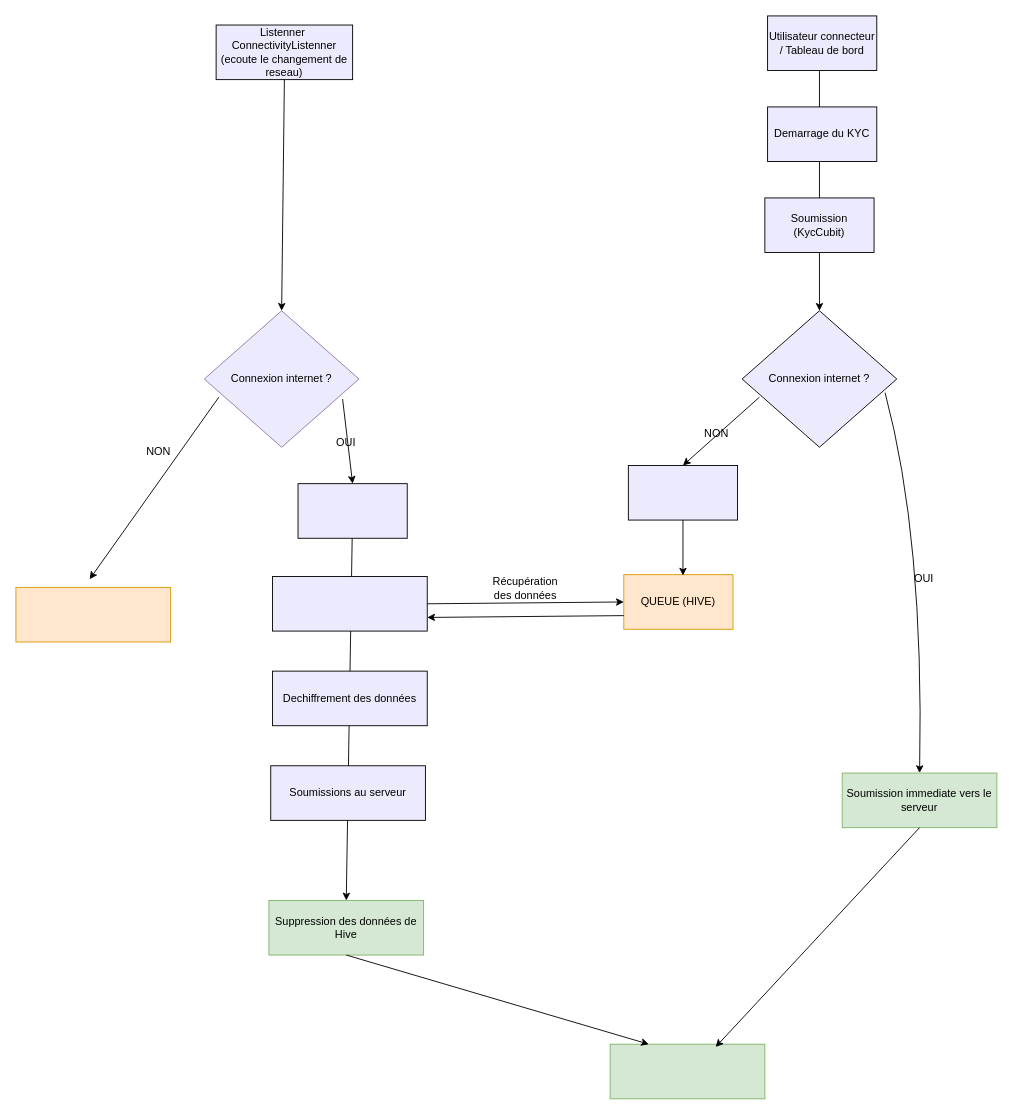
Some shapes in this 1013 by 1115 pixel diagram are drawn without their labels. The shapes that lost their labels are listed below. From the top down, each one's centre as x and y in pixels, then its label:
pixel 352 510: Event NetwokOnlineEvent
pixel 682 492: Chiffremement des données
pixel 93 614: Attente de connectivité
pixel 349 603: Subscriber ecoute NetworkOnlineEvent (SyncBloc)
pixel 687 1071: mis a jour de l'ui
